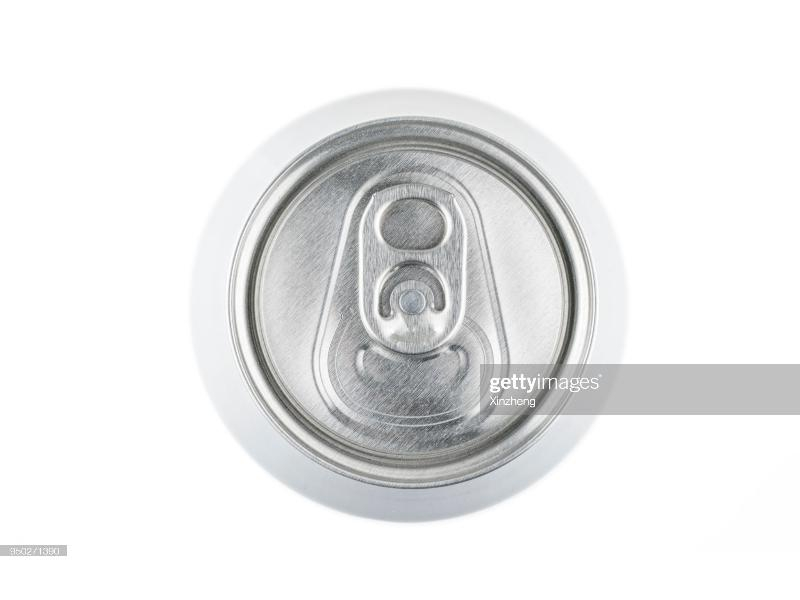can: (189, 89, 626, 523)
